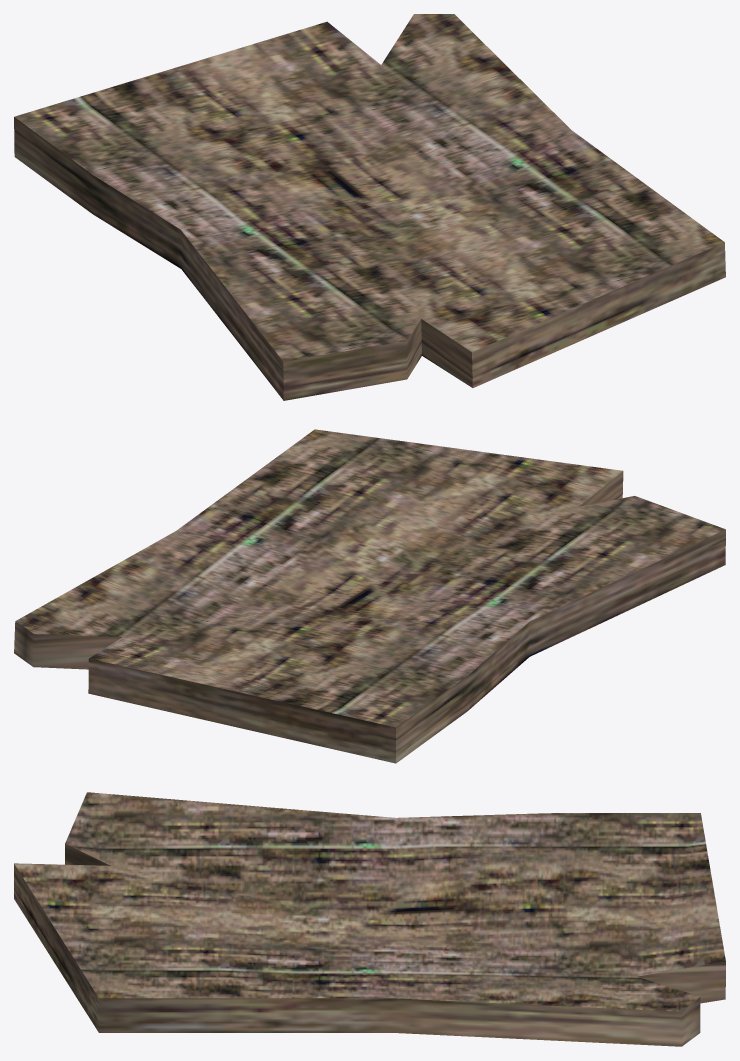
File: INST_WH_FLOATBIT_02.fbx
The picture shows the model from 3 angles, top to bottom: view 1: azimuth 30°, elevation 25°; view 2: azimuth 150°, elevation 25°; view 3: azimuth 270°, elevation 25°; orthographic projection. The views are drawn at different scales.
Parts seen in each view (by area): view 1: INST_WH_FLOATBIT_02; view 2: INST_WH_FLOATBIT_02; view 3: INST_WH_FLOATBIT_02.
Boxes of the visible parts, box(x1,y1,x2,y2) form: INST_WH_FLOATBIT_02: box(14, 14, 725, 400); INST_WH_FLOATBIT_02: box(14, 429, 725, 763); INST_WH_FLOATBIT_02: box(14, 792, 725, 1046).
Bounding box in the file's own units: 14643 × 1584 × 19454.
1 material, 1 textured.
